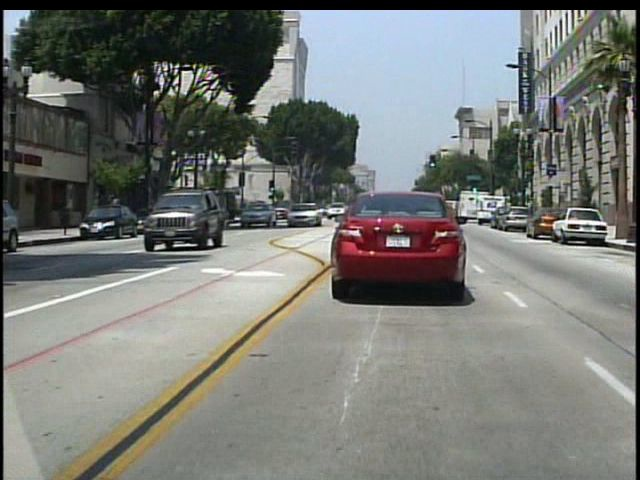person: (112, 193, 126, 226)
